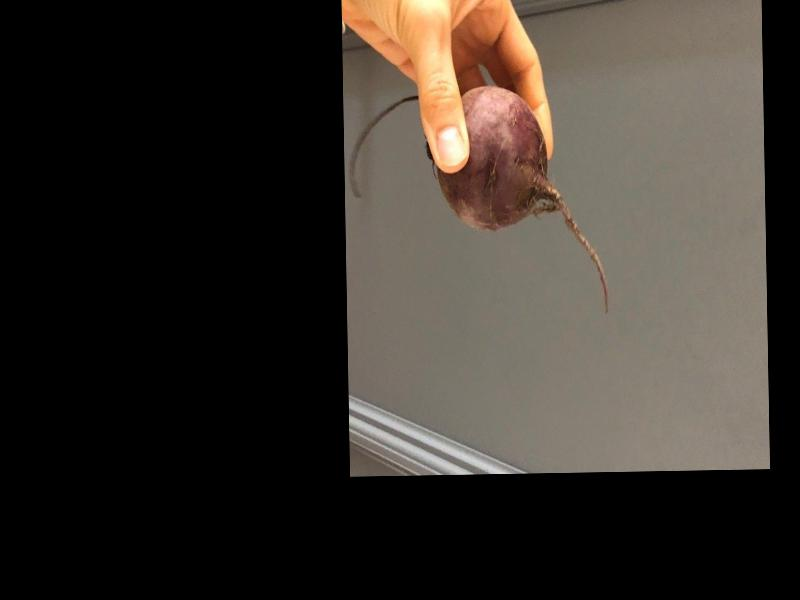Beet: (348, 84, 608, 321)
